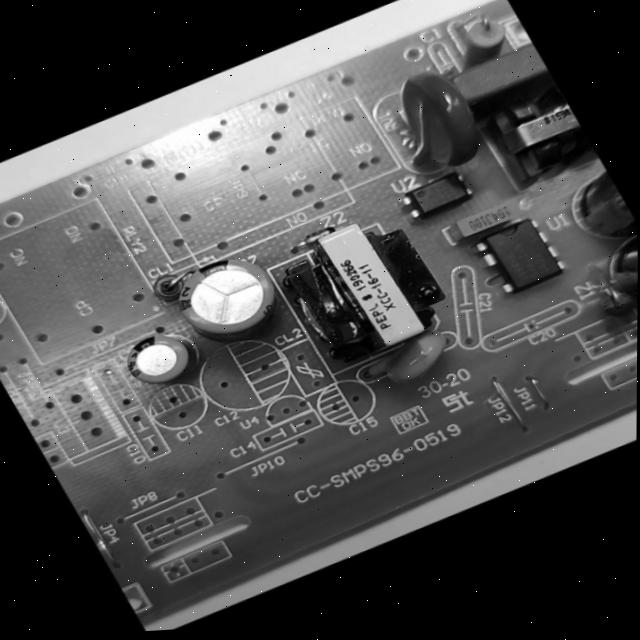Cap1: (155, 239, 296, 356)
Cap2: (114, 321, 201, 396)
Cap3: (551, 153, 637, 258)
Cap4: (589, 236, 638, 339)
MOSFET: (467, 207, 579, 304)
Mov: (364, 53, 504, 191)
Resistor: (436, 7, 522, 78)
Transformer: (266, 197, 462, 380), (466, 74, 598, 194)
